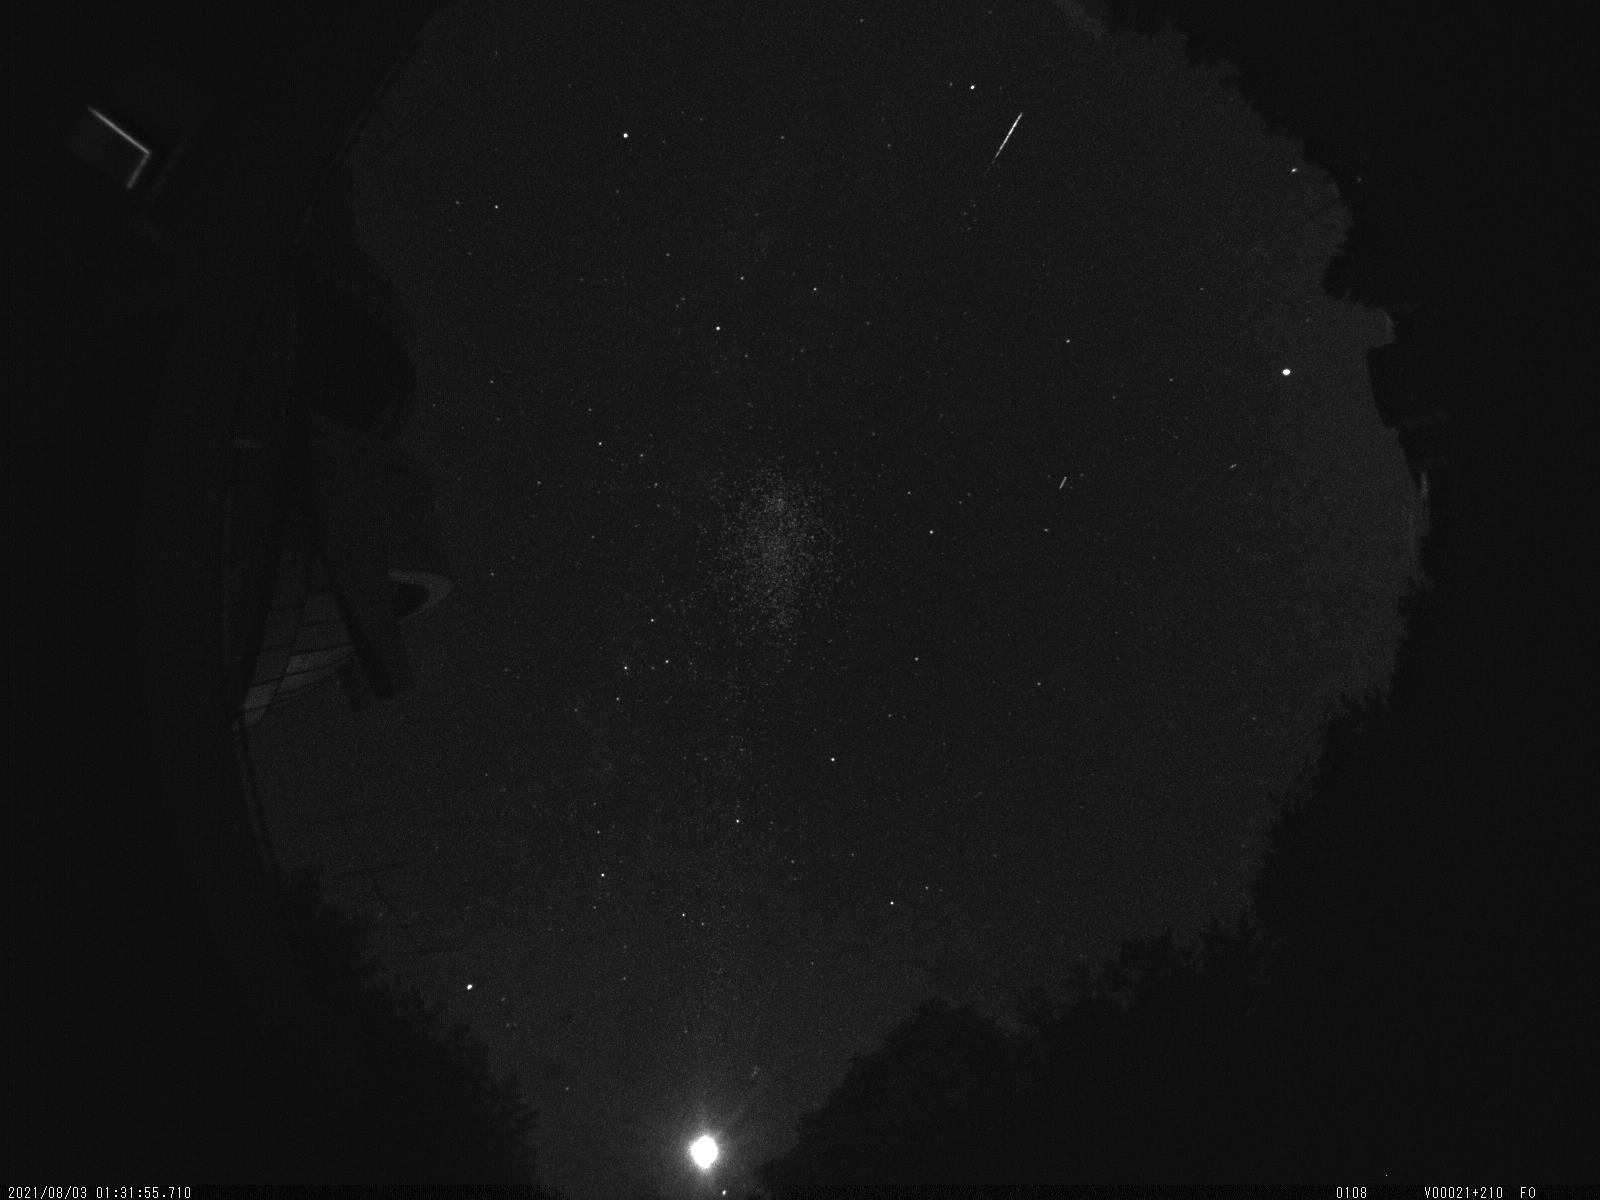Meteor: (983, 97, 1035, 179)
